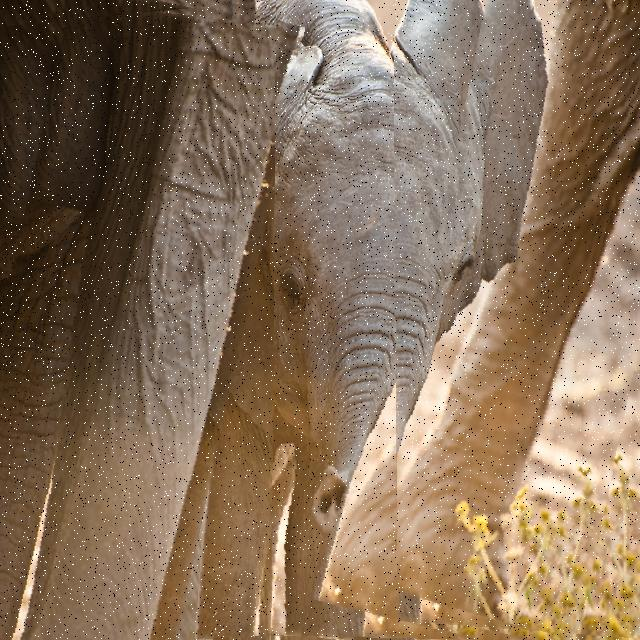elephant: (208, 0, 535, 640), (0, 0, 276, 640), (393, 0, 640, 639)
